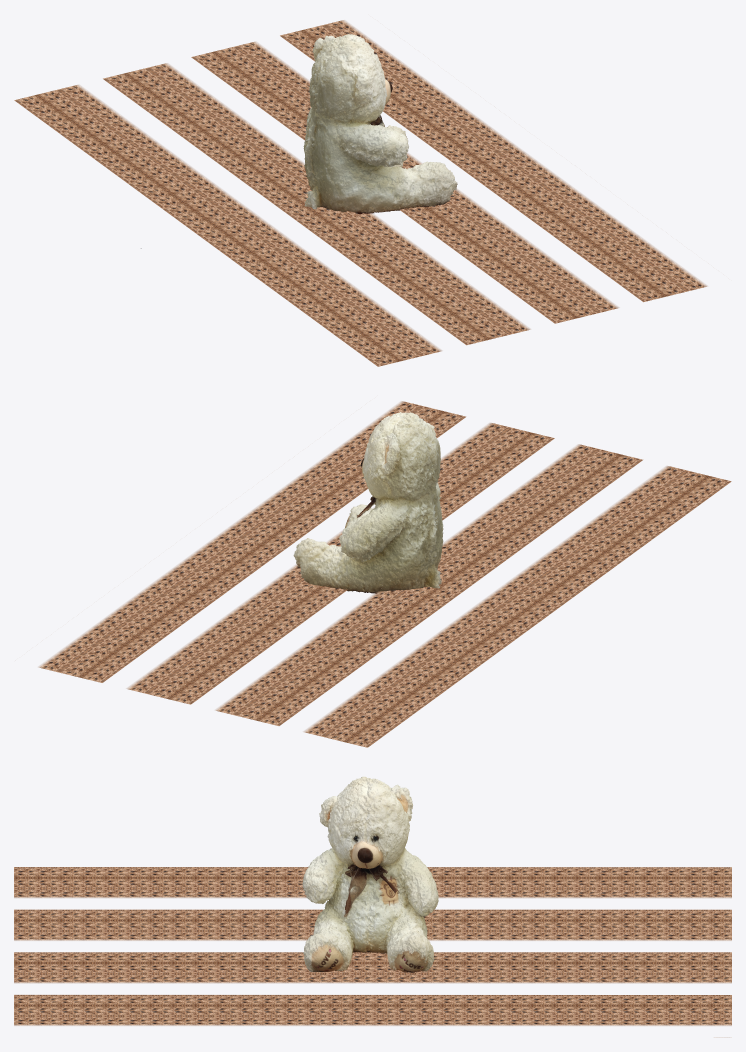
The model's file is teddy_bear.glb.
3 views of the same model, one above another, from view 1: azimuth 30°, elevation 25°; view 2: azimuth 150°, elevation 25°; view 3: azimuth 270°, elevation 25° (orthographic).
Visible parts, largest first — view 1: floor, bear_hp_tex_u1_v1_0.009, bear_hp_tex_u1_v1_0.010, bear_hp_tex_u1_v1_0.002, bear_hp_tex_u1_v1_0.008, bear_hp_tex_u1_v1_0.001, bear_hp_tex_u1_v1_0.005, bear_hp_tex_u1_v1_0.004, bear_hp_tex_u1_v1_0.003, bear_hp; view 2: floor, bear_hp_tex_u1_v1_0.005, bear_hp, bear_hp_tex_u1_v1_0.006, bear_hp_tex_u1_v1_0.007, bear_hp_tex_u1_v1_0.001, bear_hp_tex_u1_v1_0.003, bear_hp_tex_u1_v1_0.004, bear_hp_tex_u1_v1_0.008, bear_hp_tex_u1_v1_0.002, bear_hp_tex_u1_v1_0.010; view 3: floor, bear_hp_tex_u1_v1_0.004, bear_hp_tex_u1_v1_0.003, bear_hp_tex_u1_v1_0.001, bear_hp_tex_u1_v1_0.006, bear_hp, bear_hp_tex_u1_v1_0.007, bear_hp_tex_u1_v1_0.008, bear_hp_tex_u1_v1_0.002, bear_hp_tex_u1_v1_0.010, bear_hp_tex_u1_v1_0.009, bear_hp_tex_u1_v1_0.005.
Part boxes in pixels (bbox=[...]): floor: bbox=[14, 20, 707, 366]; bear_hp_tex_u1_v1_0.009: bbox=[305, 113, 403, 212]; bear_hp_tex_u1_v1_0.010: bbox=[310, 117, 457, 207]; bear_hp_tex_u1_v1_0.002: bbox=[313, 35, 386, 120]; bear_hp_tex_u1_v1_0.008: bbox=[304, 111, 404, 214]; bear_hp_tex_u1_v1_0.001: bbox=[314, 34, 389, 94]; bear_hp_tex_u1_v1_0.005: bbox=[303, 107, 419, 211]; bear_hp_tex_u1_v1_0.004: bbox=[305, 115, 437, 196]; bear_hp_tex_u1_v1_0.003: bbox=[312, 40, 424, 207]; bear_hp: bbox=[309, 34, 392, 124]; floor: bbox=[38, 401, 731, 747]; bear_hp_tex_u1_v1_0.005: bbox=[337, 484, 443, 593]; bear_hp: bbox=[362, 417, 439, 507]; bear_hp_tex_u1_v1_0.006: bbox=[343, 496, 435, 588]; bear_hp_tex_u1_v1_0.007: bbox=[331, 489, 430, 593]; bear_hp_tex_u1_v1_0.001: bbox=[362, 412, 440, 500]; bear_hp_tex_u1_v1_0.003: bbox=[294, 423, 425, 588]; bear_hp_tex_u1_v1_0.004: bbox=[293, 485, 440, 588]; bear_hp_tex_u1_v1_0.008: bbox=[353, 490, 439, 591]; bear_hp_tex_u1_v1_0.002: bbox=[374, 420, 440, 490]; bear_hp_tex_u1_v1_0.010: bbox=[298, 489, 443, 586]; floor: bbox=[14, 867, 731, 1037]; bear_hp_tex_u1_v1_0.004: bbox=[305, 849, 433, 972]; bear_hp_tex_u1_v1_0.003: bbox=[313, 792, 434, 972]; bear_hp_tex_u1_v1_0.001: bbox=[339, 776, 408, 867]; bear_hp_tex_u1_v1_0.006: bbox=[373, 848, 437, 950]; bear_hp: bbox=[329, 778, 412, 867]; bear_hp_tex_u1_v1_0.007: bbox=[302, 848, 438, 953]; bear_hp_tex_u1_v1_0.008: bbox=[307, 849, 433, 952]; bear_hp_tex_u1_v1_0.002: bbox=[319, 784, 412, 859]; bear_hp_tex_u1_v1_0.010: bbox=[303, 854, 433, 972]; bear_hp_tex_u1_v1_0.009: bbox=[307, 848, 376, 952]; bear_hp_tex_u1_v1_0.005: bbox=[313, 848, 434, 952].
Bounding box in the file's own units: 2.52 × 0.9842 × 3.81.
3 materials, 3 textured.
